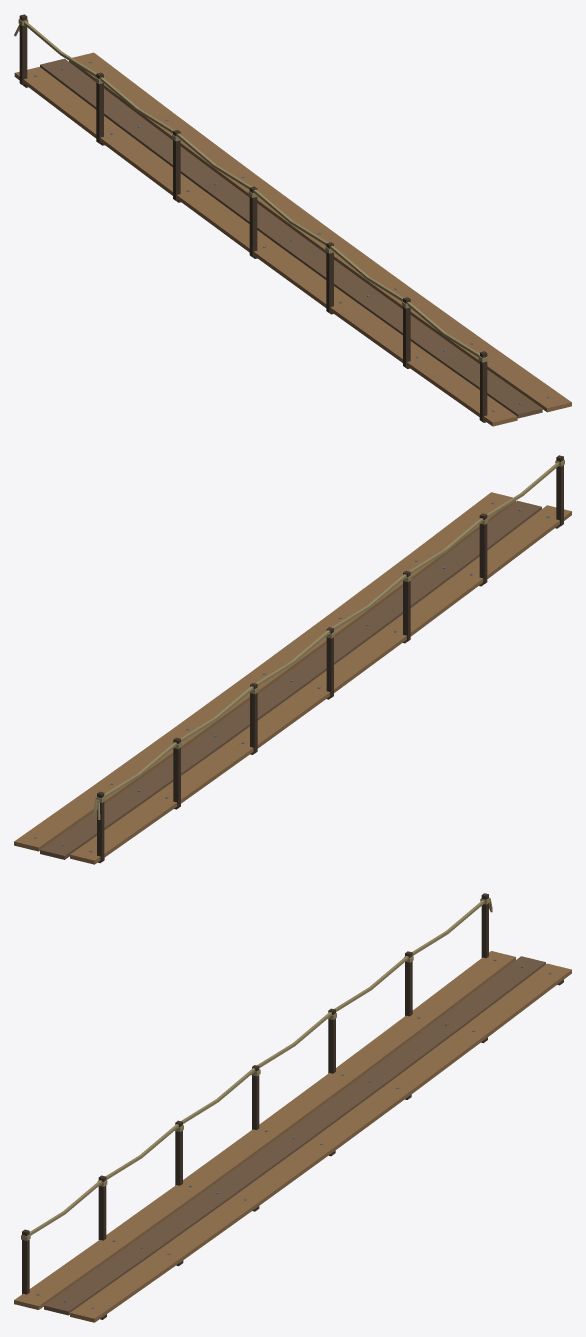
Rendered from roof_plank_12.glb.
3 renders of one model, top to bottom at view 1: azimuth 30°, elevation 25°; view 2: azimuth 150°, elevation 25°; view 3: azimuth 330°, elevation 25°, orthographic.
Parts seen in each view (by area): view 1: roof_plank_12; view 2: roof_plank_12; view 3: roof_plank_12.
Boxes of the visible parts, x1=… form: roof_plank_12: x1=14, y1=14, x2=571, y2=426; roof_plank_12: x1=14, y1=455, x2=571, y2=864; roof_plank_12: x1=14, y1=893, x2=571, y2=1322.
Size of what is drawn, in the model's own units: 1.2 by 1.01 by 12.07.
Materials: 2 (2 with a texture image).
